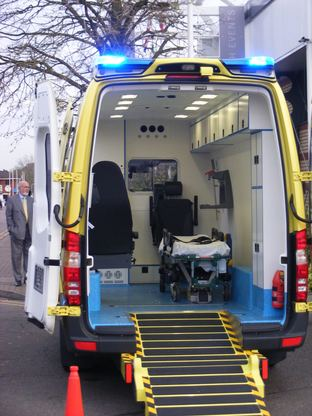ambulance: (23, 54, 312, 416)
